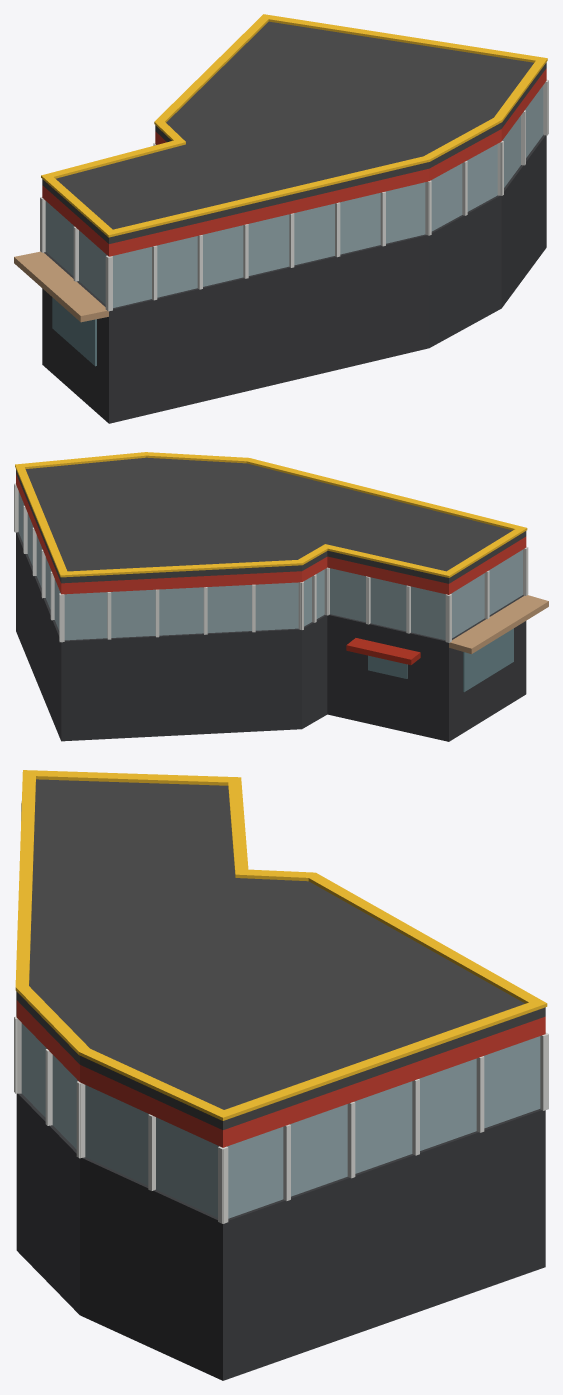
File: mcdonalds-chongde.glb
The picture shows the model from 3 angles, top to bottom: view 1: azimuth 30°, elevation 25°; view 2: azimuth 150°, elevation 25°; view 3: azimuth 270°, elevation 25°; orthographic projection. The views are drawn at different scales.
Visible parts, largest first — view 1: mcdonalds-chongde; view 2: mcdonalds-chongde; view 3: mcdonalds-chongde.
Boxes of the visible parts, x1,y1,x2,y2 form: mcdonalds-chongde: (14,14,548,423); mcdonalds-chongde: (14,452,548,741); mcdonalds-chongde: (14,770,548,1380).
Bounding box in the file's own units: 35.73 × 12 × 22.05.
